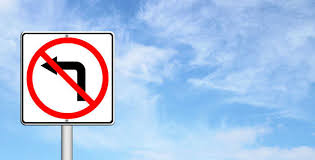No_left_turn: (26, 37, 108, 119)
